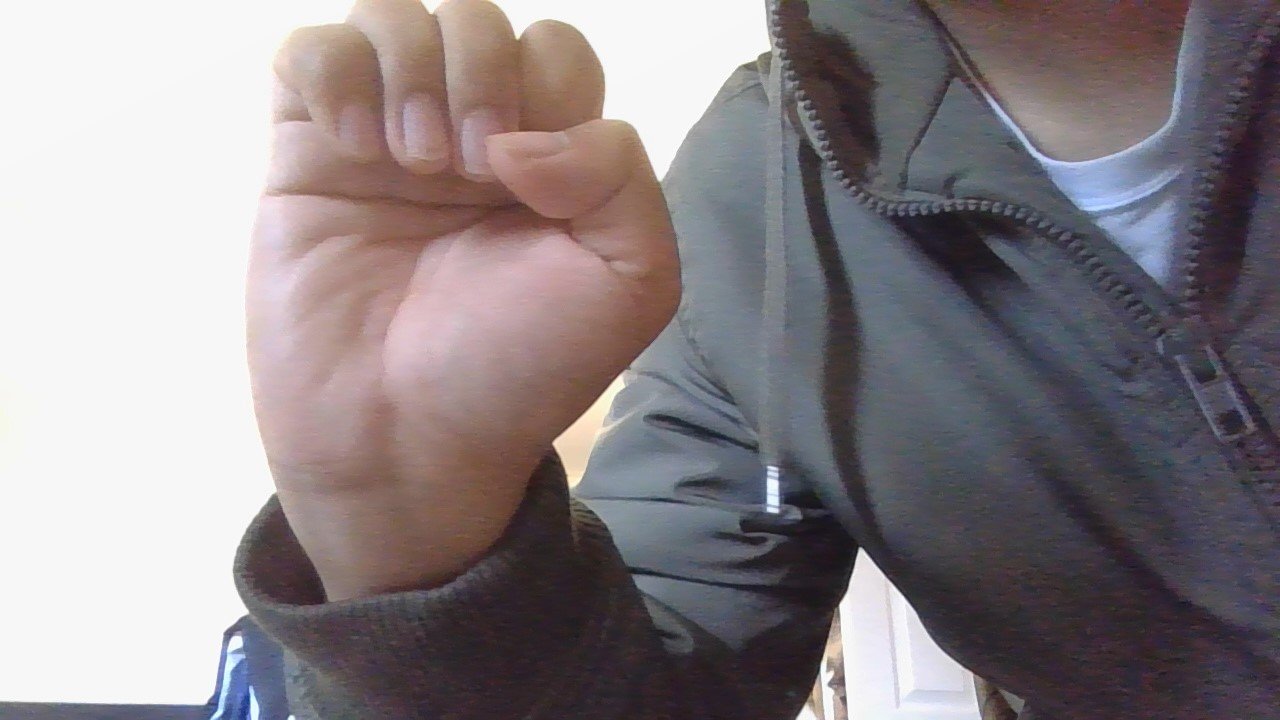e: (203, 1, 698, 586)
